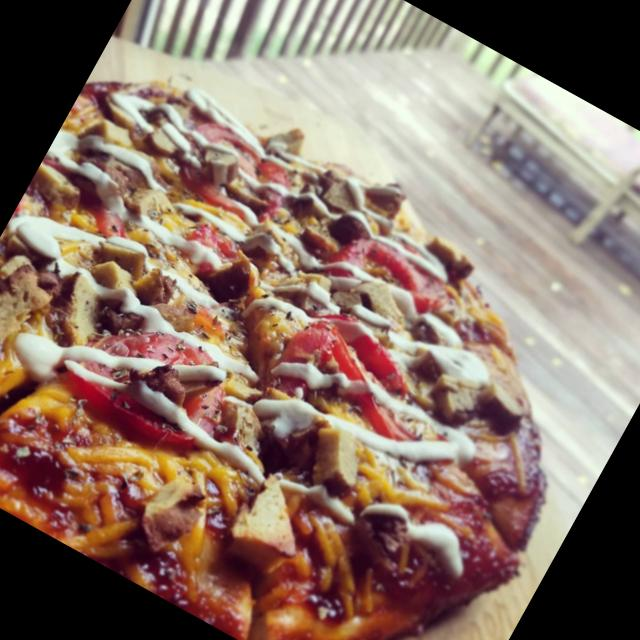mushrooms: (212, 465, 328, 592), (79, 230, 181, 322), (125, 461, 212, 556), (37, 262, 121, 351), (299, 416, 376, 494), (0, 256, 51, 352), (343, 269, 413, 333), (199, 245, 263, 307), (425, 372, 487, 432), (194, 134, 256, 191), (307, 166, 368, 221), (475, 378, 534, 434), (421, 233, 478, 286), (138, 110, 188, 158)
pizza: (0, 81, 546, 640)
